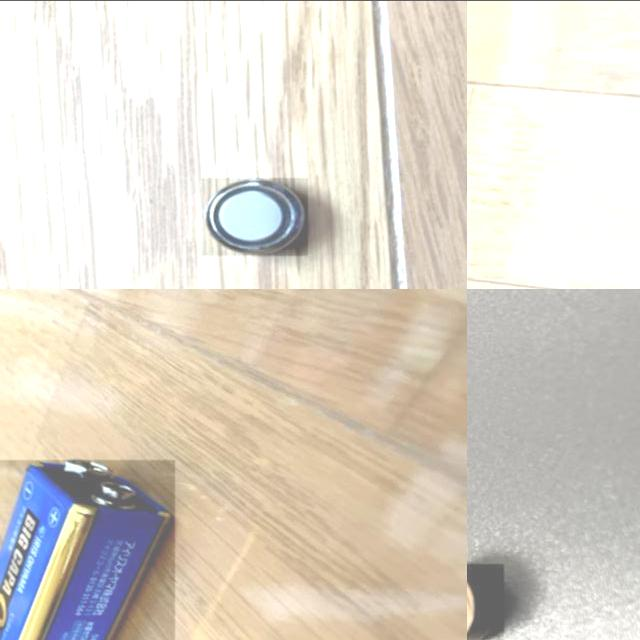9V: (0, 459, 175, 640)
